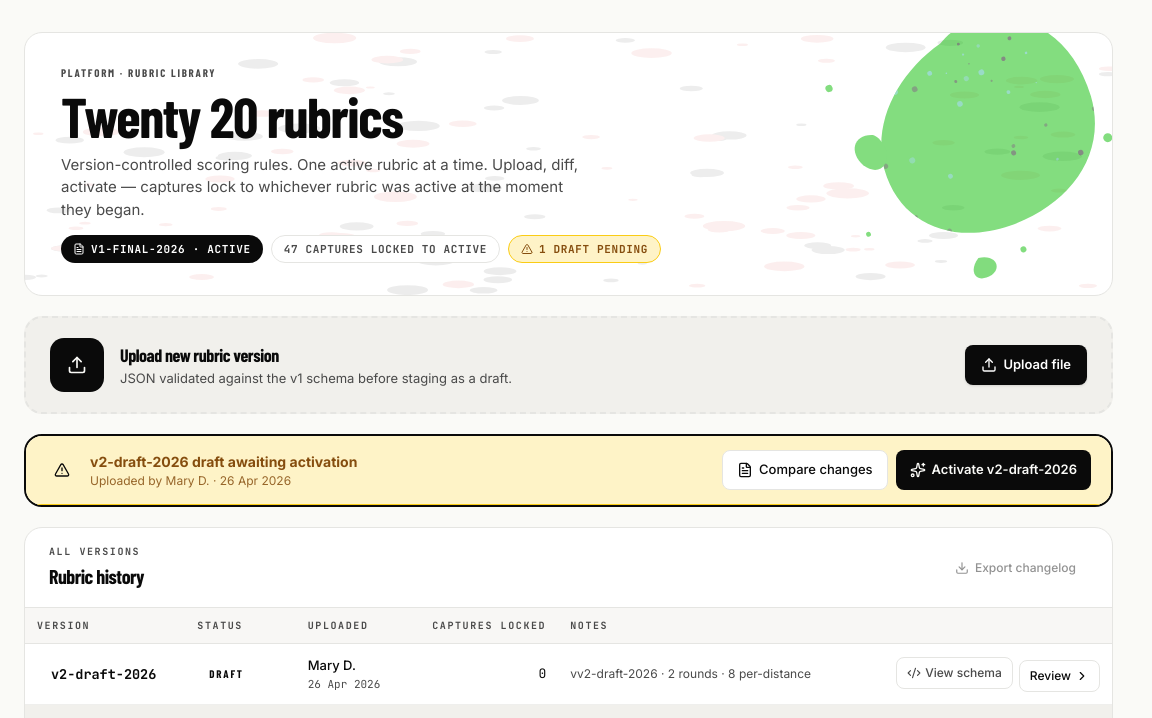
Test: <RubricsClient /> — draft banner › Compare CTA opens the diff modal
Click the button "Compare changes": [805, 470] box [722, 450, 888, 490]
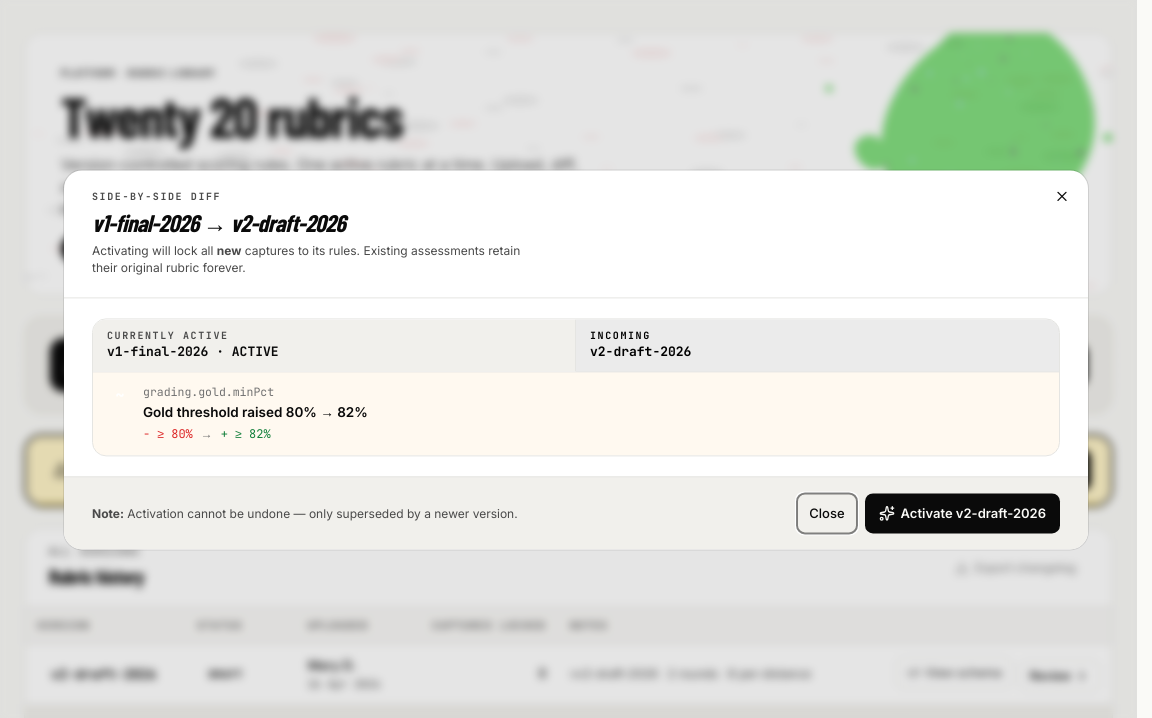
Expected: the dialog is shown, [64, 170, 1088, 550]
